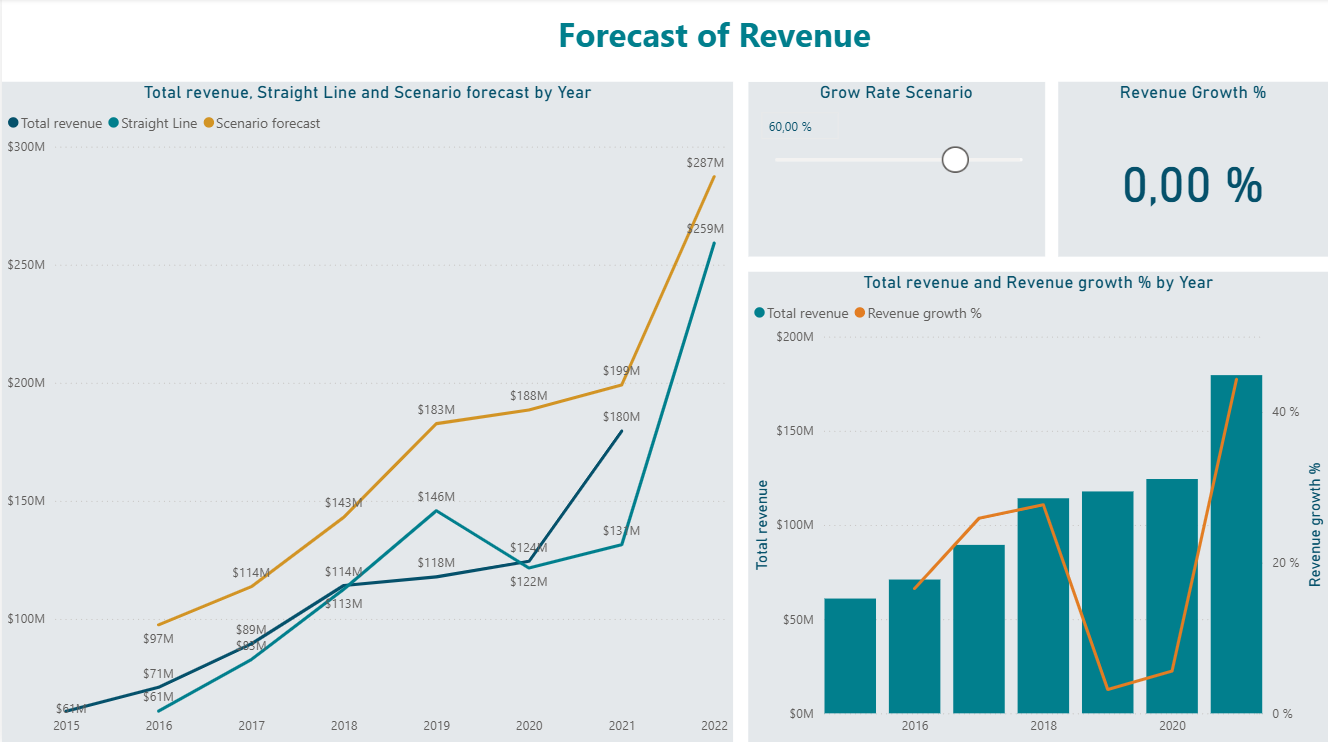

Layout of this report page (visuals, bound fields, positions):
{"tool":"powerbi","page":{"name":"Forecast","canvas":[1280,720],"ordinal":3},"visuals":[{"type":"card","title":"Revenue Growth %","fields":{"Values":["Forecast.Revenue growth %"]},"box":[1019.8,80.7,260.5,168.8],"z":0},{"type":"lineStackedColumnComboChart","fields":{"Y":["Forecast.Total revenue"],"Y2":["Forecast.Revenue growth %"],"Category":["Calendar.Date.Variation.Date Hierarchy.Year","Calendar.Date.Variation.Date Hierarchy.Quarter","Calendar.Date.Variation.Date Hierarchy.Month","Calendar.Date.Variation.Date Hierarchy.Day"]},"box":[720.2,264.1,560.1,456.1],"z":1000},{"type":"lineChart","fields":{"Y":["Forecast.Total revenue","Forecast.Straight Line","Forecast.Scenario forecast"],"Category":["Calendar.Date.Variation.Date Hierarchy.Year","Calendar.Date.Variation.Date Hierarchy.Quarter","Calendar.Date.Variation.Date Hierarchy.Month","Calendar.Date.Variation.Date Hierarchy.Day"]},"box":[0,80.7,705.6,639.5],"z":2000},{"type":"slicer","title":"Grow Rate Scenario","fields":{"Values":["Grow rate scenario.Grow rate scenario"]},"box":[720.2,80.7,286.1,168.8],"z":3000},{"type":"textbox","box":[326.5,8.6,721.5,62.4],"z":4000}]}

Visuals, with their boxes in screenshot pixels (x1, y1, x2, y2), scaled from the page's 1280x720 canvas onto the 1328x742 screenshot:
"Revenue Growth %" card: <region>1058, 83, 1327, 257</region>
lineStackedColumnComboChart - Forecast.Total revenue x Forecast.Revenue growth %: <region>747, 272, 1327, 741</region>
lineChart - Forecast.Total revenue x Forecast.Straight Line: <region>0, 83, 732, 741</region>
"Grow Rate Scenario" slicer: <region>747, 83, 1044, 257</region>
textbox: <region>339, 9, 1087, 73</region>
